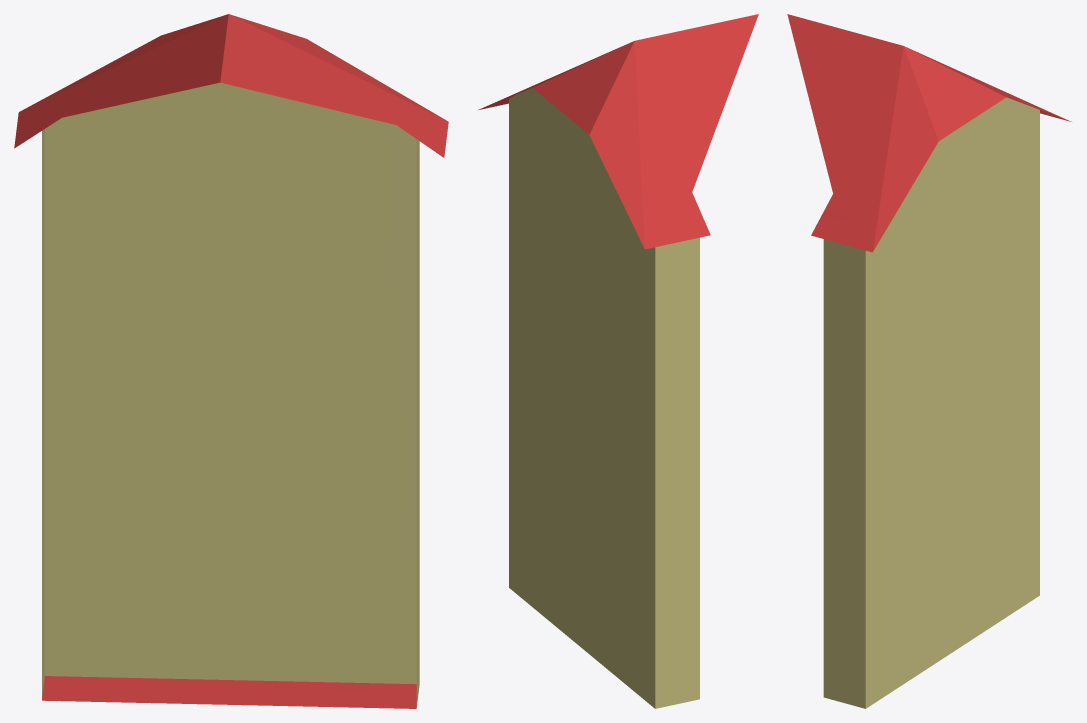
3 renders of one model, left to right at view 1: azimuth 30°, elevation 25°; view 2: azimuth 150°, elevation 25°; view 3: azimuth 270°, elevation 25°, orthographic. The views are drawn at different scales.
Visible parts, largest first — view 1: group_5, group_3, group_6; view 2: group_5, group_3, group_4; view 3: group_5, group_3, group_4.
Boxes of the visible parts, bbox=[...] form: group_5: bbox=[42, 82, 419, 706]; group_3: bbox=[14, 14, 448, 157]; group_6: bbox=[42, 676, 416, 708]; group_5: bbox=[509, 88, 699, 708]; group_3: bbox=[478, 14, 758, 249]; group_4: bbox=[484, 96, 709, 248]; group_5: bbox=[823, 97, 1039, 708]; group_3: bbox=[787, 14, 1070, 252]; group_4: bbox=[813, 111, 1063, 251].
Size of the model in its own units: 7.36 by 6.03 by 13.83.
